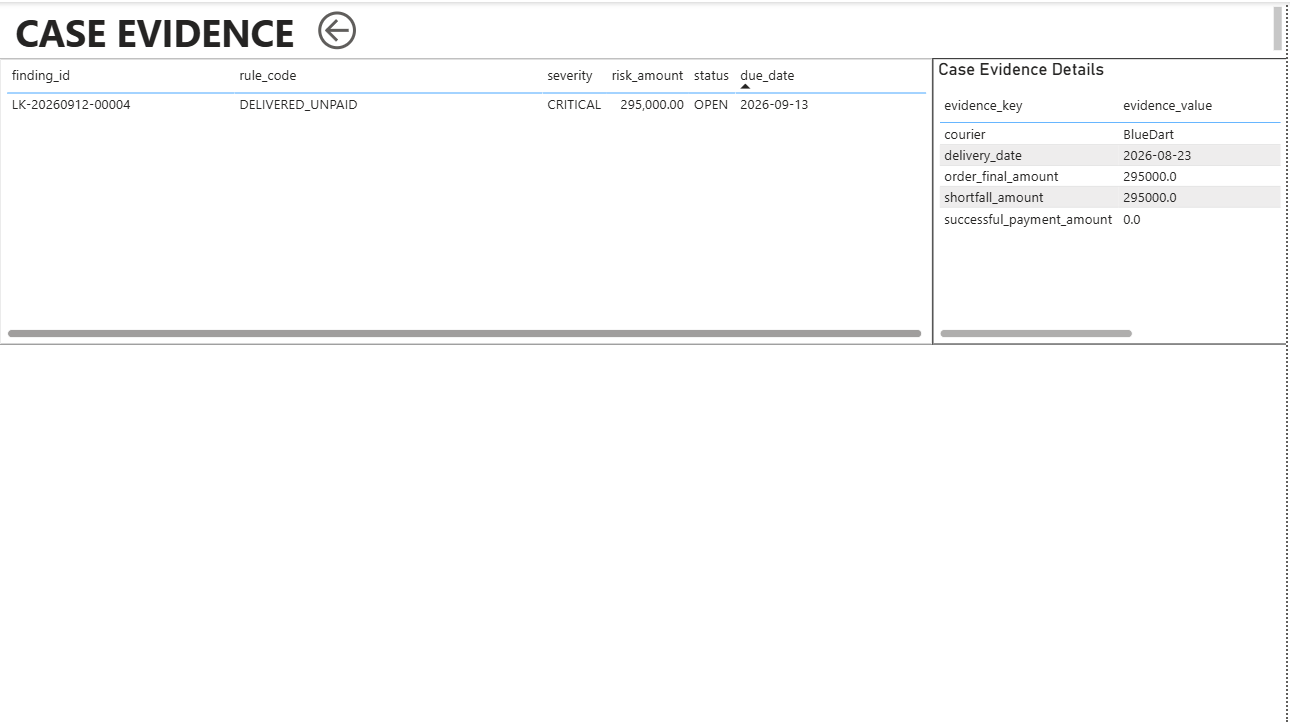

Layout of this report page (visuals, bound fields, positions):
{"tool":"powerbi","page":{"name":"Case Evidence","canvas":[1280,720],"ordinal":6},"visuals":[{"type":"textbox","box":[10,0,1270.4,56.2],"z":0},{"type":"actionButton","box":[311,3.6,75.3,49],"z":1},{"type":"tableEx","fields":{"Values":["rpt_fact_findings.finding_id","rpt_fact_findings.rule_code","rpt_fact_findings.severity","rpt_fact_findings.risk_amount","rpt_fact_findings.status","rpt_fact_findings.due_date"]},"box":[0,56.2,927.7,284.7],"z":2},{"type":"tableEx","title":"Case Evidence Details","fields":{"Values":["rpt_fact_evidence.evidence_key","rpt_fact_evidence.evidence_value"]},"box":[927.7,56.2,352.7,284.7],"z":3}]}

Visuals, with their boxes in screenshot pixels (x1, y1, x2, y2), scaled from the page's 1280x720 canvas onto the 1290x722 screenshot:
textbox: {"x1": 10, "y1": 0, "x2": 1289, "y2": 56}
actionButton: {"x1": 313, "y1": 4, "x2": 389, "y2": 53}
tableEx - rpt_fact_findings.finding_id x rpt_fact_findings.rule_code: {"x1": 0, "y1": 56, "x2": 935, "y2": 342}
"Case Evidence Details" tableEx: {"x1": 935, "y1": 56, "x2": 1289, "y2": 342}
